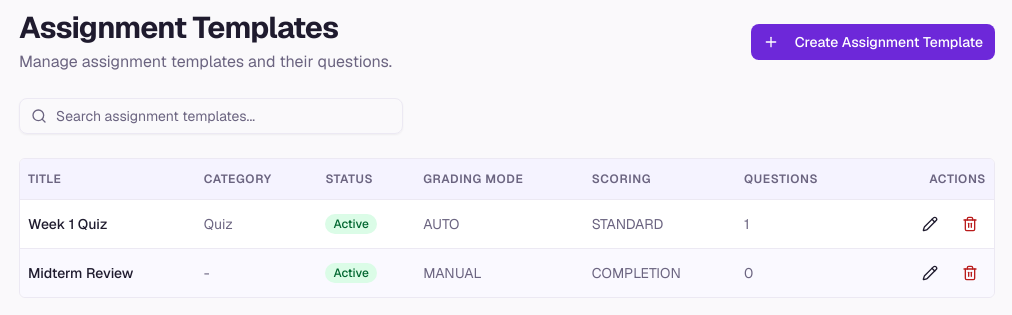
Test case: AssignmentTemplateListView › filters assignment templates by search query
Expected: the text "Week 1 Quiz" is shown, [20, 199, 196, 248]
Type "midterm" into the field with placeholder "Search assignment templates..." at (211, 116), box [19, 98, 403, 134]
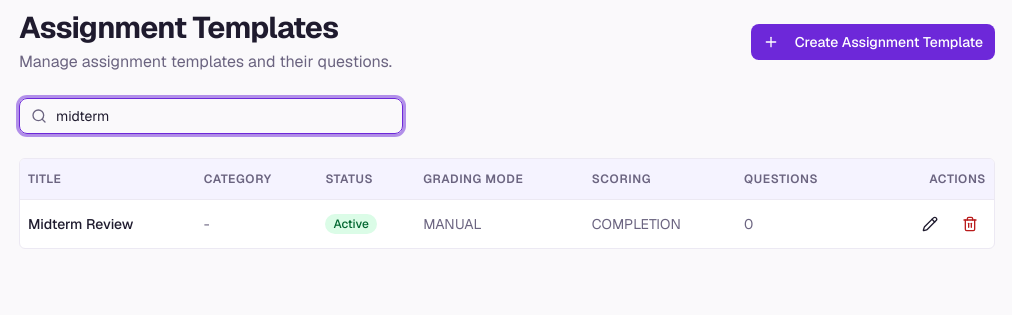
Expected: the text "Midterm Review" is shown, [20, 199, 196, 248]
Result: the text "Week 1 Quiz" is gone
